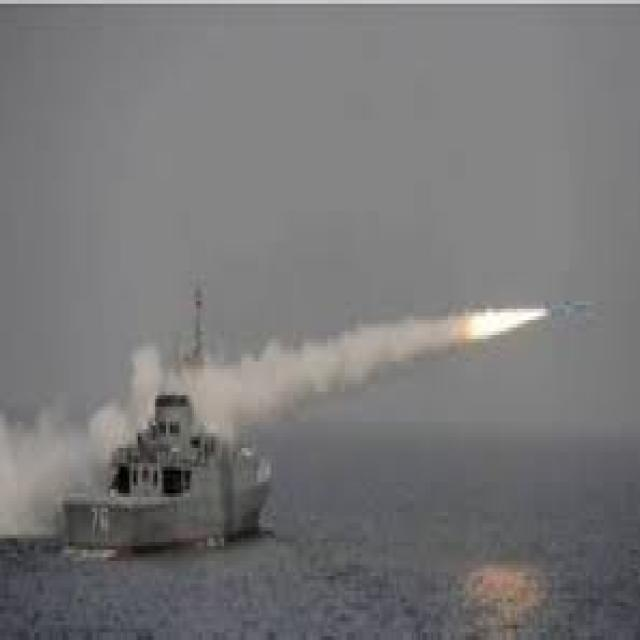navalvessels: (46, 340, 285, 572)
